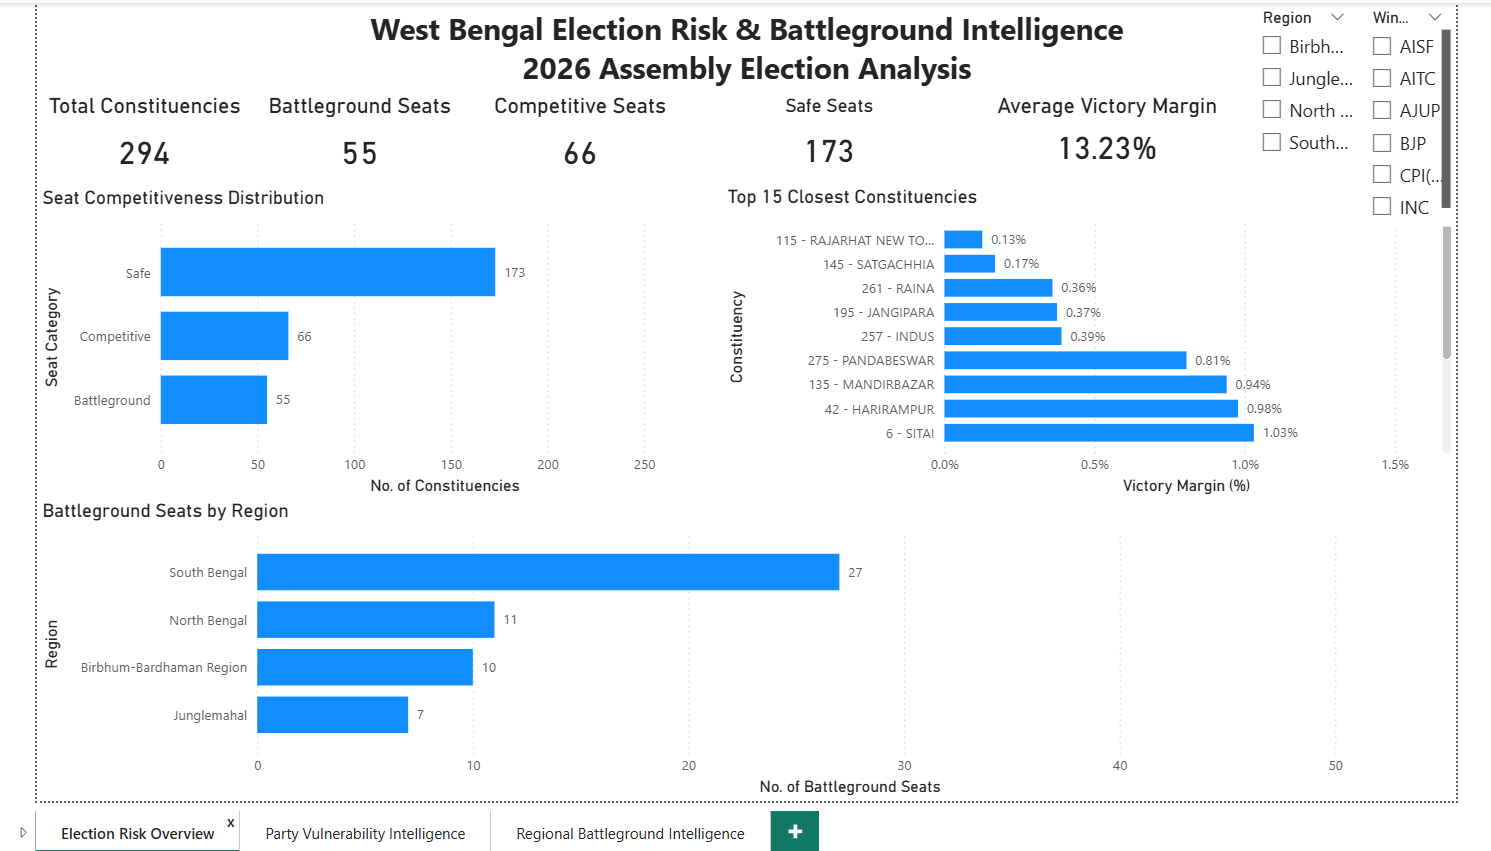

This screenshot's page, from the dashboard's own definition file:
{"tool":"powerbi","page":{"name":"Election Risk Overview","canvas":[1280,720],"ordinal":0},"visuals":[{"type":"textbox","box":[0,0,1280.3,81],"z":0},{"type":"card","title":"Total Constituencies","fields":{"Values":["Count(Election_Risk_Model.Constituency)"]},"box":[0,80.9,194.1,83.3],"z":1000},{"type":"card","title":"Battleground Seats","fields":{"Values":["Count(Election_Risk_Model.Constituency)"]},"box":[194.1,80.9,194.1,82.1],"z":2000},{"type":"card","title":"Competitive Seats","fields":{"Values":["Count(Election_Risk_Model.Constituency)"]},"box":[388.1,80.9,204,82.1],"z":3000},{"type":"card","title":"Safe Seats","fields":{"Values":["Count(Election_Risk_Model.Constituency)"]},"box":[592.1,82.1,245.1,79.6],"z":4000},{"type":"card","title":"Average Victory Margin","fields":{"Values":["Avg(Election_Risk_Model.Victory Margin %)"]},"box":[837.2,80.9,255,74.6],"z":5000},{"type":"clusteredBarChart","title":"Seat Competitiveness Distribution","fields":{"Category":["Election_Risk_Model.Seat Category"],"Y":["CountNonNull(Election_Risk_Model.Constituency)"]},"box":[0,165.4,639.4,282.4],"z":6000},{"type":"clusteredBarChart","title":"Top 15 Closest Constituencies","fields":{"Category":["Election_Risk_Model.Constituency"],"Y":["Avg(Election_Risk_Model.Victory Margin %)"]},"box":[617.5,164.7,662.8,284],"z":7000},{"type":"clusteredBarChart","title":"Battleground Seats by Region","fields":{"Y":["CountNonNull(Election_Risk_Model.Constituency)"],"Category":["Election_Risk_Model.Region"],"Series":["Election_Risk_Model.Seat Category"]},"box":[0,447.8,1280,272.4],"z":8000},{"type":"slicer","fields":{"Values":["Election_Risk_Model.Winning Party"]},"box":[1191.7,0,88.3,201.5],"z":9000},{"type":"slicer","fields":{"Values":["Election_Risk_Model.Region"]},"box":[1092.2,0,99.5,164.2],"z":10000}]}

Visuals, with their boxes on the page's 1280x720 design canvas (x1, y1, x2, y2). These are canvas units, not pixel positions in the 1491x851 screenshot, which may show the page scaled, cropped or inside an application window:
textbox: bbox=(0, 0, 1280, 81)
"Total Constituencies" card: bbox=(0, 81, 194, 164)
"Battleground Seats" card: bbox=(194, 81, 388, 163)
"Competitive Seats" card: bbox=(388, 81, 592, 163)
"Safe Seats" card: bbox=(592, 82, 837, 162)
"Average Victory Margin" card: bbox=(837, 81, 1092, 156)
"Seat Competitiveness Distribution" clusteredBarChart: bbox=(0, 165, 639, 448)
"Top 15 Closest Constituencies" clusteredBarChart: bbox=(618, 165, 1280, 449)
"Battleground Seats by Region" clusteredBarChart: bbox=(0, 448, 1280, 720)
slicer - Election_Risk_Model.Winning Party: bbox=(1192, 0, 1280, 202)
slicer - Election_Risk_Model.Region: bbox=(1092, 0, 1192, 164)
